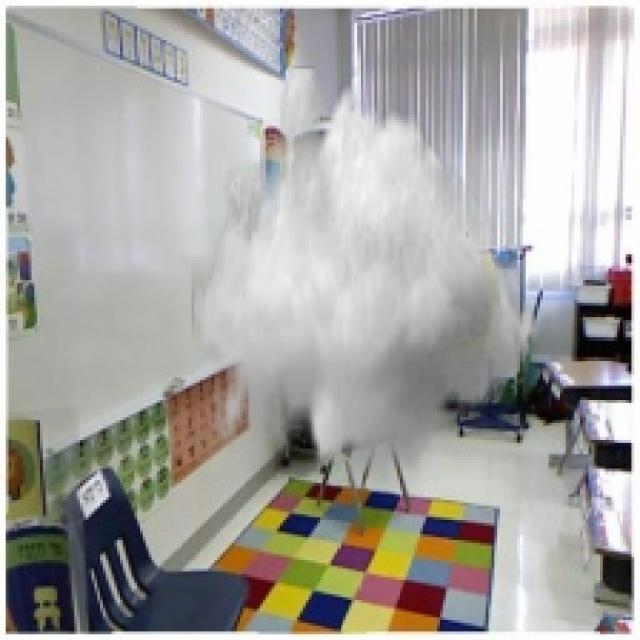Smoke: (191, 66, 546, 483)
